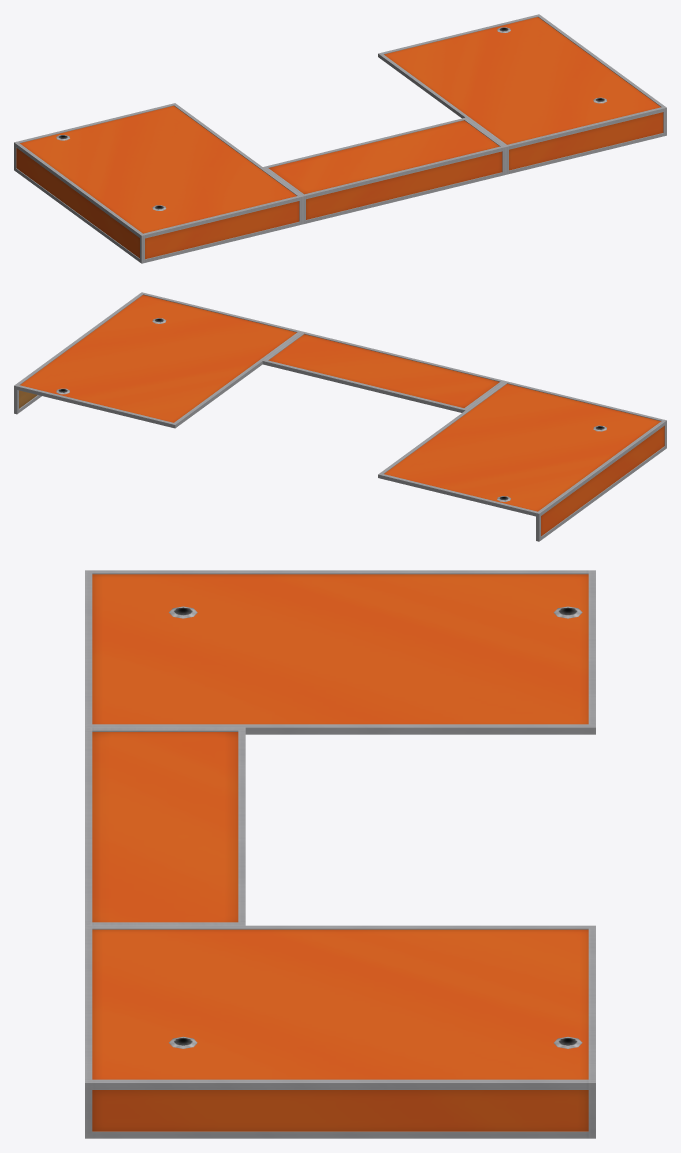
The model's file is jsf_4P_s02_c01_t02_DX.fbx.
3 views of the same model, one above another, from view 1: azimuth 30°, elevation 25°; view 2: azimuth 150°, elevation 25°; view 3: azimuth 270°, elevation 25° (orthographic). The views are drawn at different scales.
Visible parts, largest first — view 1: jsf_4P_s02_c01_t02_DX; view 2: jsf_4P_s02_c01_t02_DX; view 3: jsf_4P_s02_c01_t02_DX.
Part boxes in pixels (x1=…): jsf_4P_s02_c01_t02_DX: x1=14, y1=14, x2=666, y2=263; jsf_4P_s02_c01_t02_DX: x1=14, y1=292, x2=666, y2=541; jsf_4P_s02_c01_t02_DX: x1=85, y1=570, x2=595, y2=1138.
Bounding box in the file's own units: 246 × 12.99 × 104.
